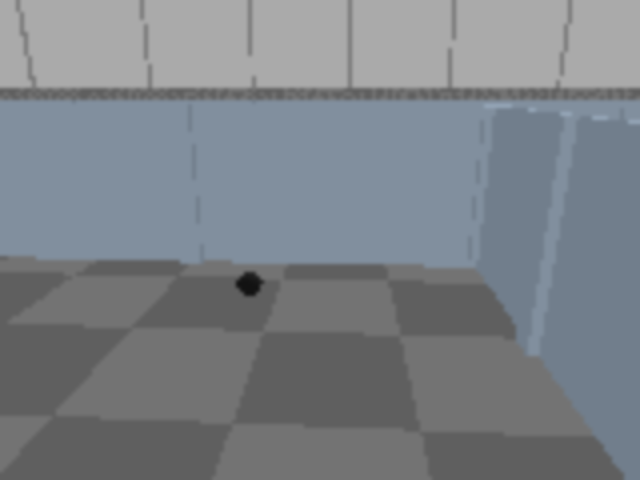puck: (234, 267, 266, 302)
